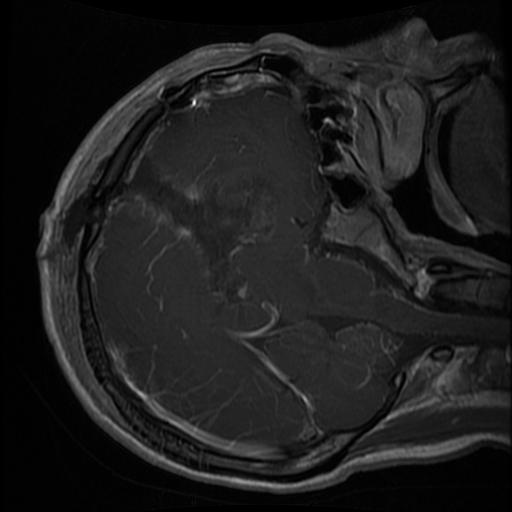glioma: (127, 153, 277, 315)
